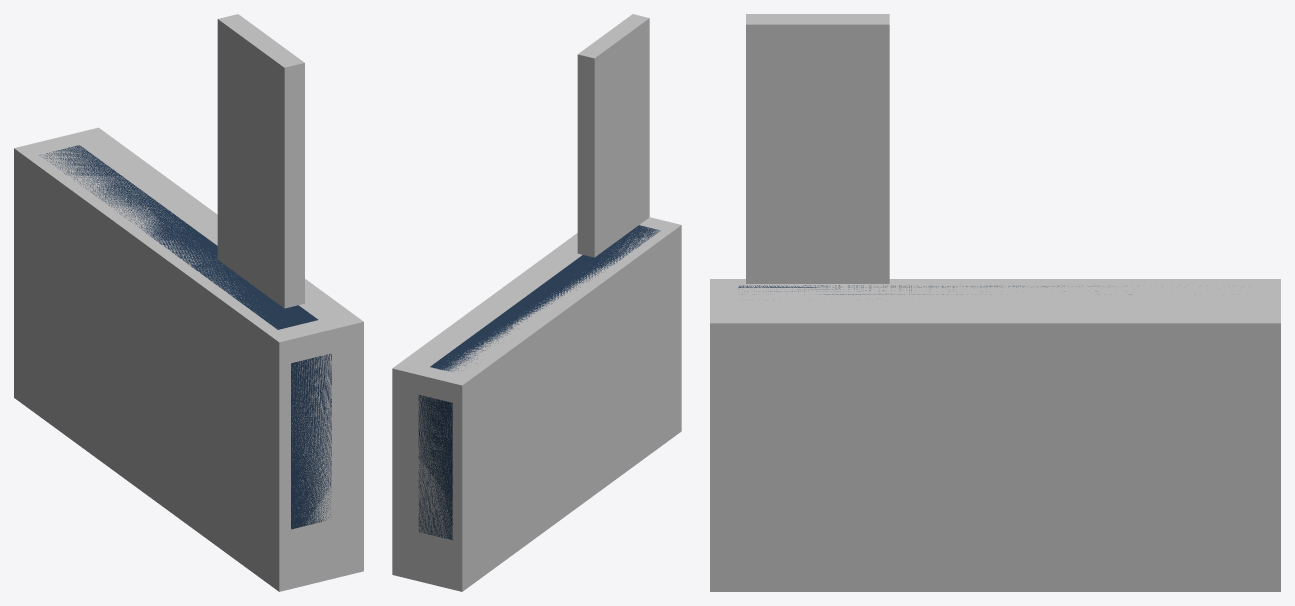
File: SM_Billboard_09.fbx
3 renders of one model, left to right at view 1: azimuth 30°, elevation 25°; view 2: azimuth 150°, elevation 25°; view 3: azimuth 270°, elevation 25°, orthographic. The views are drawn at different scales.
Visible parts, largest first — view 1: SM_Billboard_09_ConvexHulls, SM_Billboard_09; view 2: SM_Billboard_09_ConvexHulls, SM_Billboard_09; view 3: SM_Billboard_09_ConvexHulls.
Part boxes in pixels (<box>): SM_Billboard_09_ConvexHulls: <box>14,14,363,591</box>; SM_Billboard_09: <box>39,145,331,529</box>; SM_Billboard_09_ConvexHulls: <box>392,14,681,591</box>; SM_Billboard_09: <box>418,225,660,540</box>; SM_Billboard_09_ConvexHulls: <box>710,14,1280,591</box>.
Bounding box in the file's own units: 82.94 × 450 × 474.
